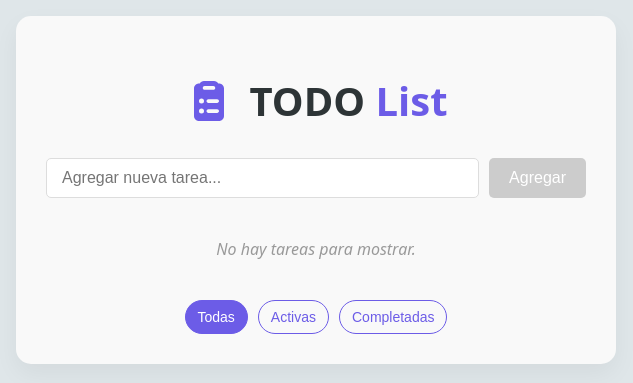
Test: Todo List App › debería permitir al usuario agregar una nueva tarea
Type "Comprar leche" into the field with placeholder "Agregar nueva tarea..." at {"x": 263, "y": 178}, box x1=46 y1=158 x2=479 y2=198
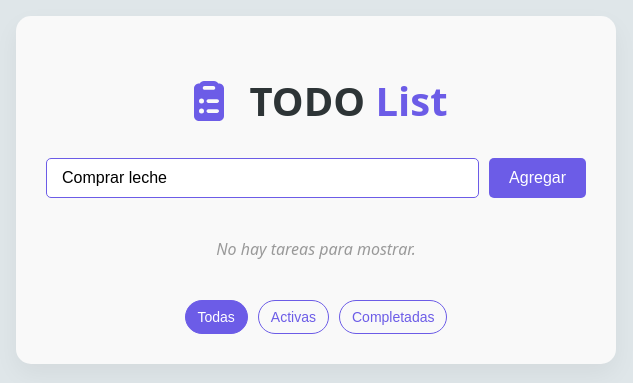
Click the button "Agregar" at {"x": 538, "y": 178}, box x1=489 y1=158 x2=586 y2=198
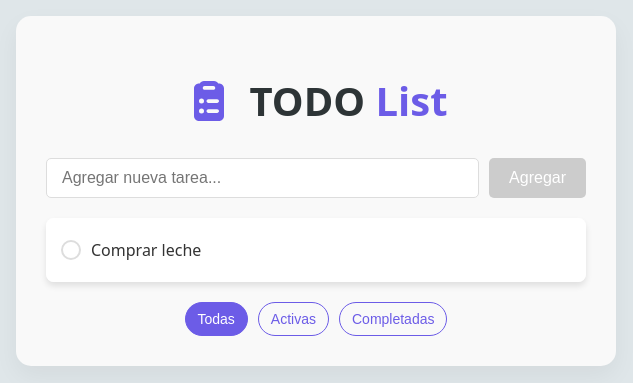
Expected: the text "Comprar leche" is shown, x1=91 y1=239 x2=201 y2=261
